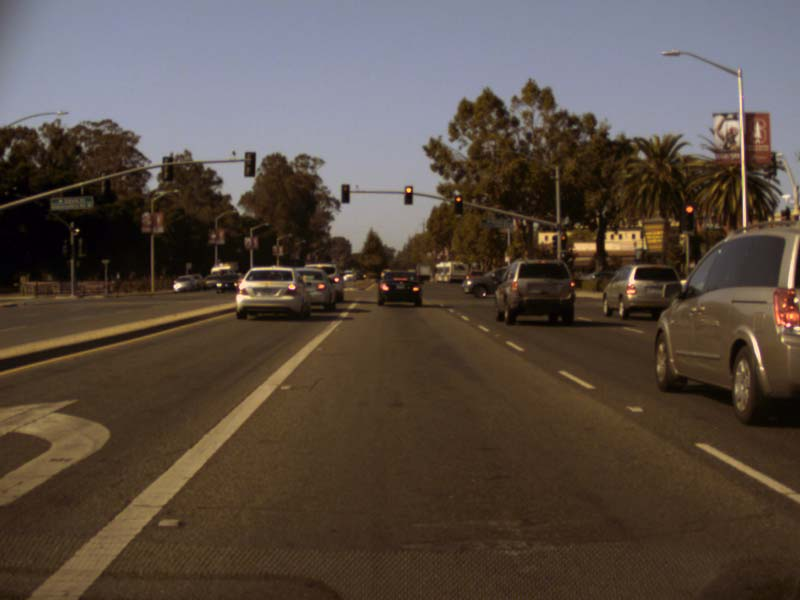Red: (684, 202, 693, 232), (404, 185, 413, 204), (454, 194, 462, 214), (560, 234, 566, 247)
